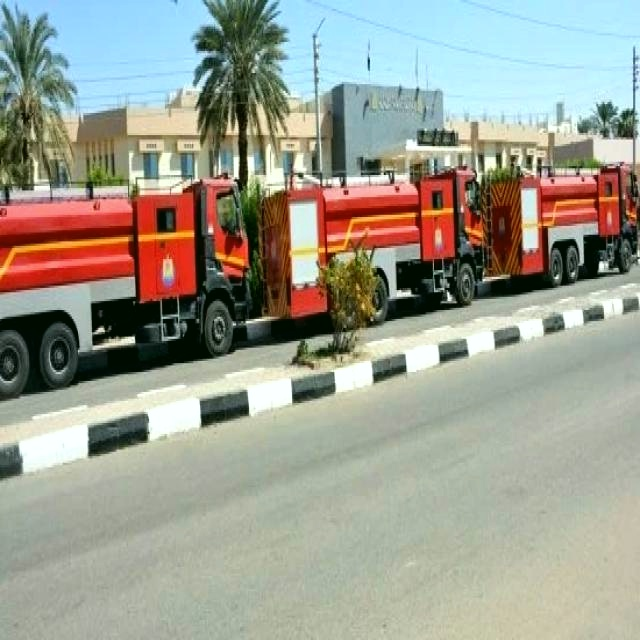Fire-truck: (0, 139, 252, 446), (264, 142, 497, 345), (499, 120, 640, 295)
